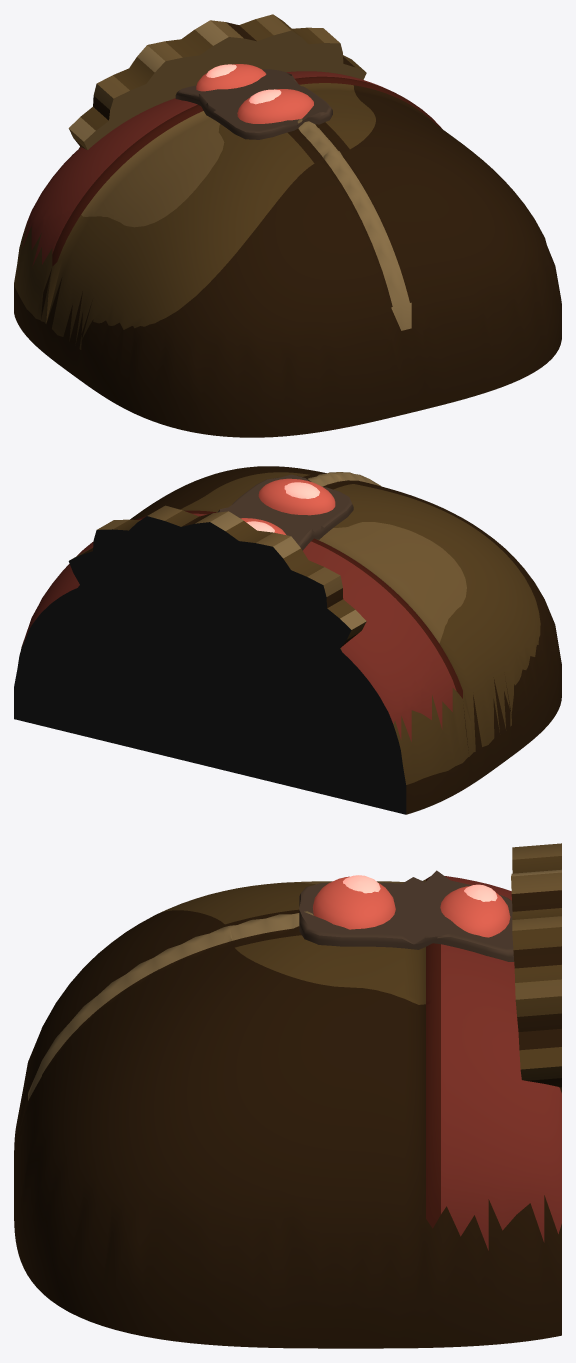
File: dome_cannon_dome.glb
3 renders of one model, top to bottom at view 1: azimuth 30°, elevation 25°; view 2: azimuth 150°, elevation 25°; view 3: azimuth 270°, elevation 25°, orthographic. The views are drawn at different scales.
Parts seen in each view (by area): view 1: dome_cannon_dome; view 2: dome_cannon_dome; view 3: dome_cannon_dome.
Boxes of the visible parts, <box> form: dome_cannon_dome: <box>14,14,561,437</box>; dome_cannon_dome: <box>14,466,561,814</box>; dome_cannon_dome: <box>14,843,561,1348</box>.
Size of the model in its own units: 21 by 11.4 by 17.
